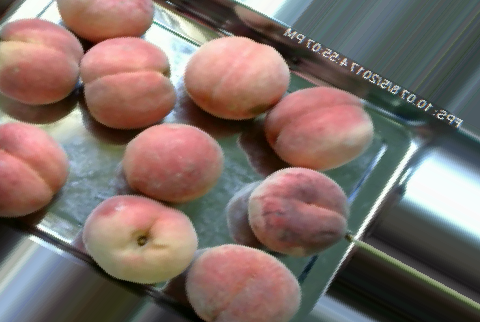Peach: (80, 193, 197, 287), (246, 167, 347, 257), (186, 244, 302, 322), (264, 87, 372, 170), (80, 35, 173, 130), (182, 36, 288, 118), (121, 123, 223, 203), (0, 17, 81, 105), (0, 114, 65, 221), (56, 0, 154, 41)
